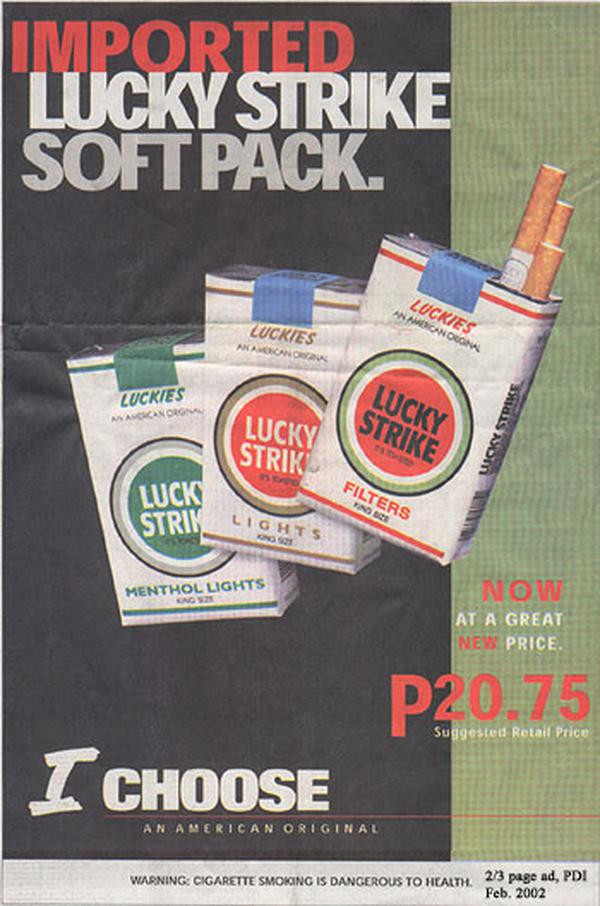lucky_strike_red: (336, 270, 504, 520), (201, 280, 331, 545)
